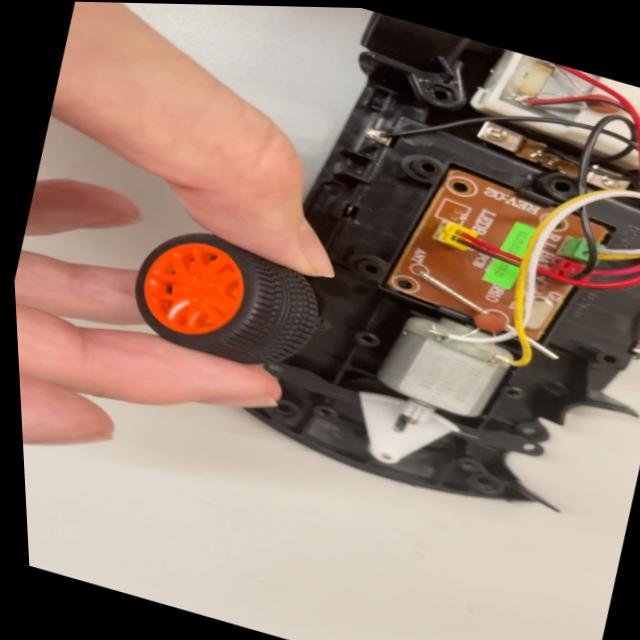motor: (352, 292, 535, 456)
wheel: (99, 211, 338, 411)
